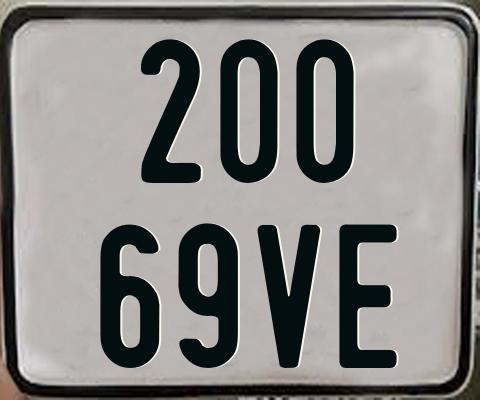0: (218, 39, 280, 187), (295, 39, 355, 185)
2: (138, 36, 203, 182)
6: (99, 223, 158, 372)
9: (175, 223, 236, 369)
E: (337, 223, 400, 368)
V: (255, 225, 319, 371)
